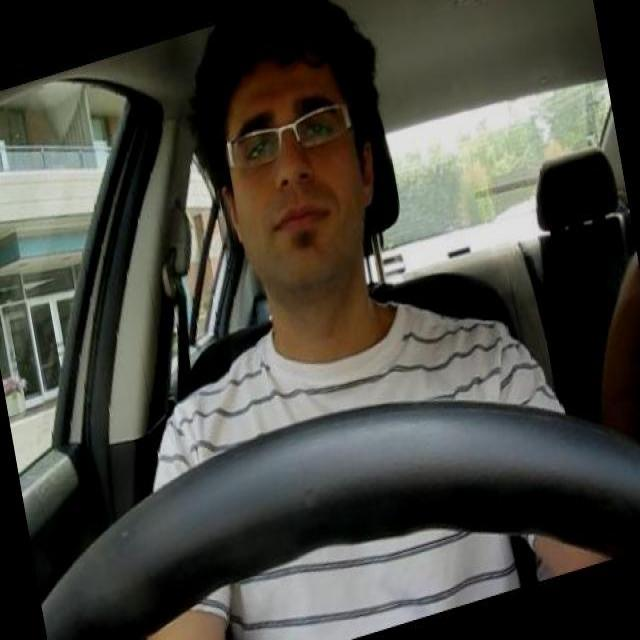no-seatbelt: (145, 318, 590, 632)
